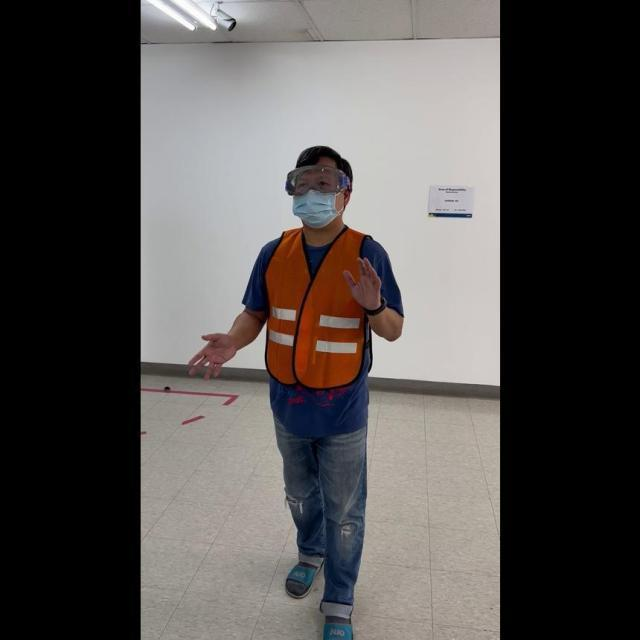bare_hand: (185, 327, 237, 380), (341, 252, 383, 314)
